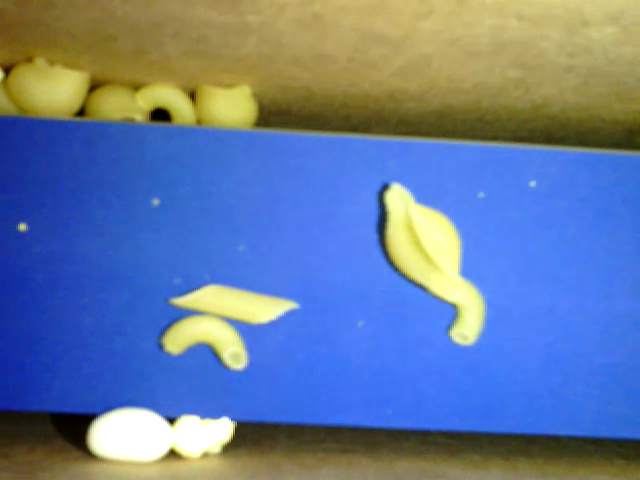elbow: (160, 314, 251, 371), (449, 272, 489, 348), (135, 82, 198, 127)
penne: (169, 284, 298, 325)
shell: (377, 179, 461, 300), (7, 57, 90, 117), (197, 80, 259, 129), (87, 83, 149, 124)
